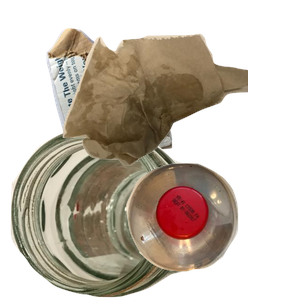cardboard: (44, 26, 209, 186)
glass: (10, 126, 220, 300)
plastic: (124, 161, 300, 300)
trash: (60, 31, 300, 189)
